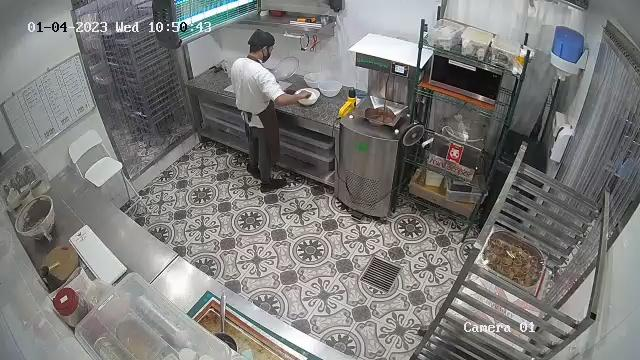apron: (233, 94, 278, 133)
